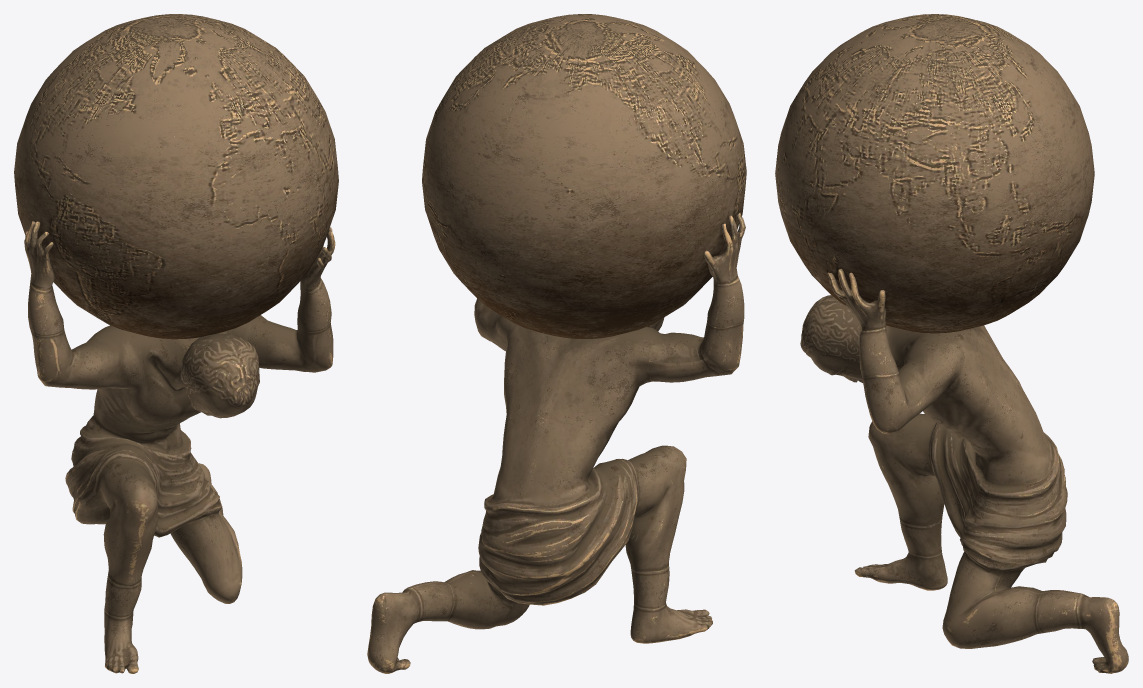
File: atlas.glb
3 views of the same model, side by side, from view 1: azimuth 30°, elevation 25°; view 2: azimuth 150°, elevation 25°; view 3: azimuth 270°, elevation 25° (orthographic).
Visible parts, largest first — view 1: Group1; view 2: Group1; view 3: Group1.
Boxes of the visible parts, x1,y1,x2,y2 form: Group1: (14,14,338,673); Group1: (367,14,746,673); Group1: (775,14,1128,673).
Bounding box in the file's own units: 103 × 202 × 109.
Materials: 2 (2 with a texture image).
